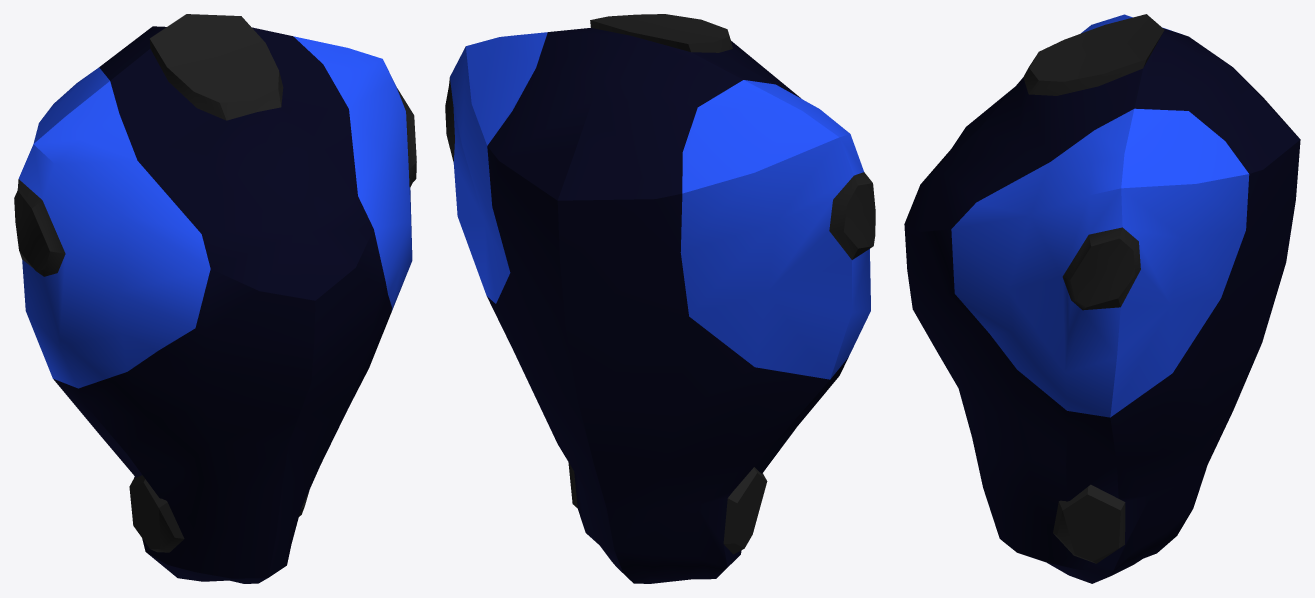
Rendered from Torso_3.fbx.
3 renders of one model, left to right at view 1: azimuth 30°, elevation 25°; view 2: azimuth 150°, elevation 25°; view 3: azimuth 270°, elevation 25°, orthographic. The views are drawn at different scales.
Parts seen in each view (by area): view 1: Torso_3; view 2: Torso_3; view 3: Torso_3.
Boxes of the visible parts, x1,y1,x2,y2 form: Torso_3: [14, 14, 416, 583]; Torso_3: [445, 14, 875, 583]; Torso_3: [904, 14, 1300, 583].
Bounding box in the file's own units: 65.6 × 87.91 × 58.28.
